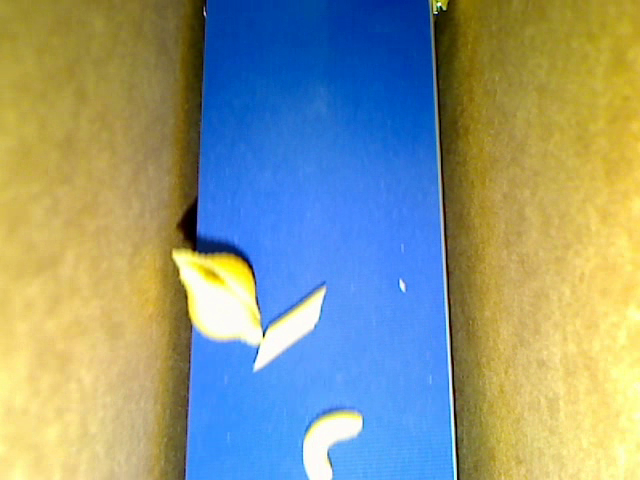elbow: (302, 409, 363, 479)
penne: (252, 284, 326, 371)
shell: (168, 246, 263, 346)
